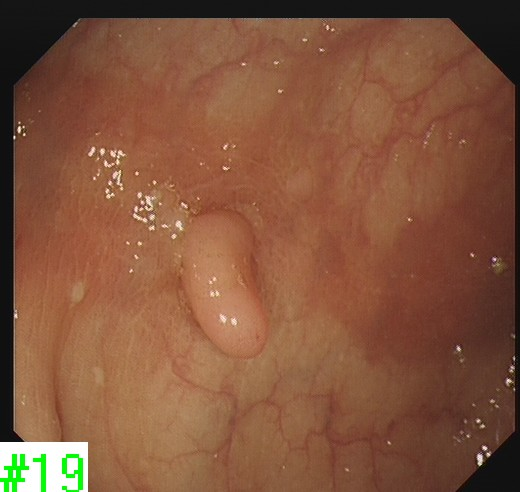adenoma: (176, 206, 270, 360)
